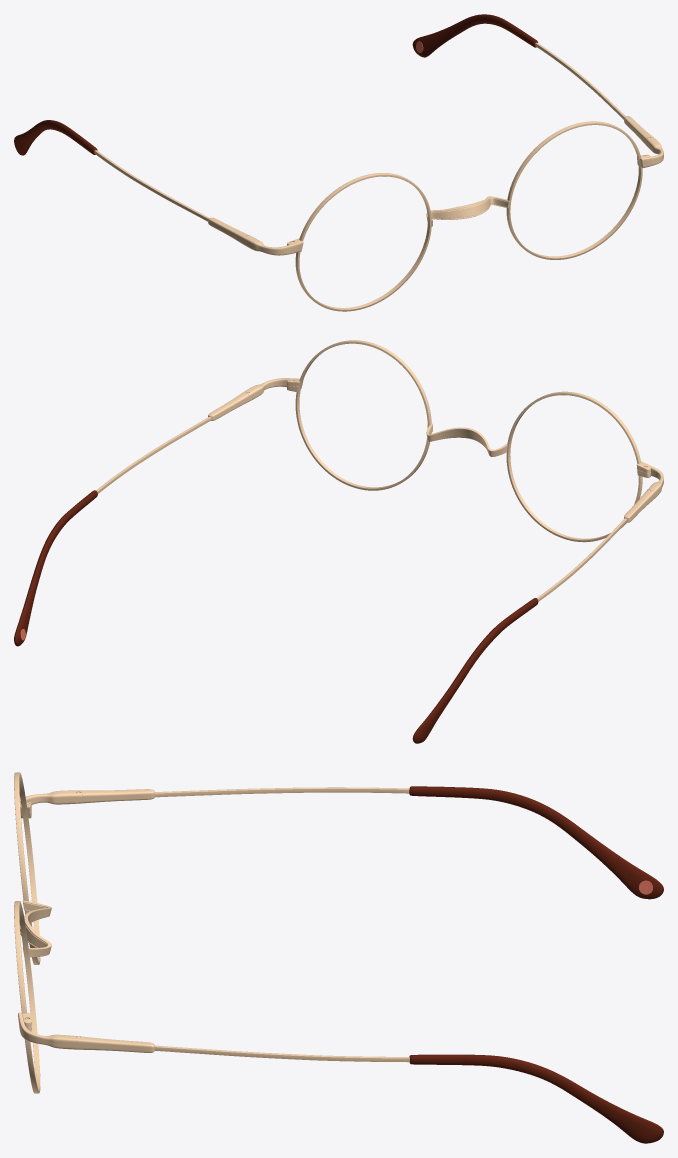
File: glases.fbx
3 renders of one model, top to bottom at view 1: azimuth 30°, elevation 25°; view 2: azimuth 150°, elevation 25°; view 3: azimuth 270°, elevation 25°, orthographic. The views are drawn at different scales.
Parts seen in each view (by area): view 1: Circle, Plane.003, Plane.001, Plane.002, Plane; view 2: Circle, Plane.003, Plane.001, Plane.002, Plane; view 3: Plane.003, Circle, Plane.001, Plane.002, Plane.
Boxes of the visible parts, x1,y1,x2,y2 form: Circle: (295, 121, 642, 311); Plane.003: (14, 14, 538, 155); Plane.001: (208, 116, 663, 255); Plane.002: (94, 42, 625, 221); Plane: (426, 196, 510, 226); Circle: (295, 340, 642, 542); Plane.003: (14, 490, 538, 743); Plane.001: (208, 378, 663, 522); Plane.002: (96, 417, 627, 601); Plane: (426, 423, 507, 456); Plane.003: (409, 786, 663, 1143); Circle: (14, 772, 40, 1093); Plane.001: (18, 789, 154, 1052); Plane.002: (154, 787, 409, 1062); Plane: (20, 900, 51, 957).
Size of the model in its own units: 911 by 274 by 921.
